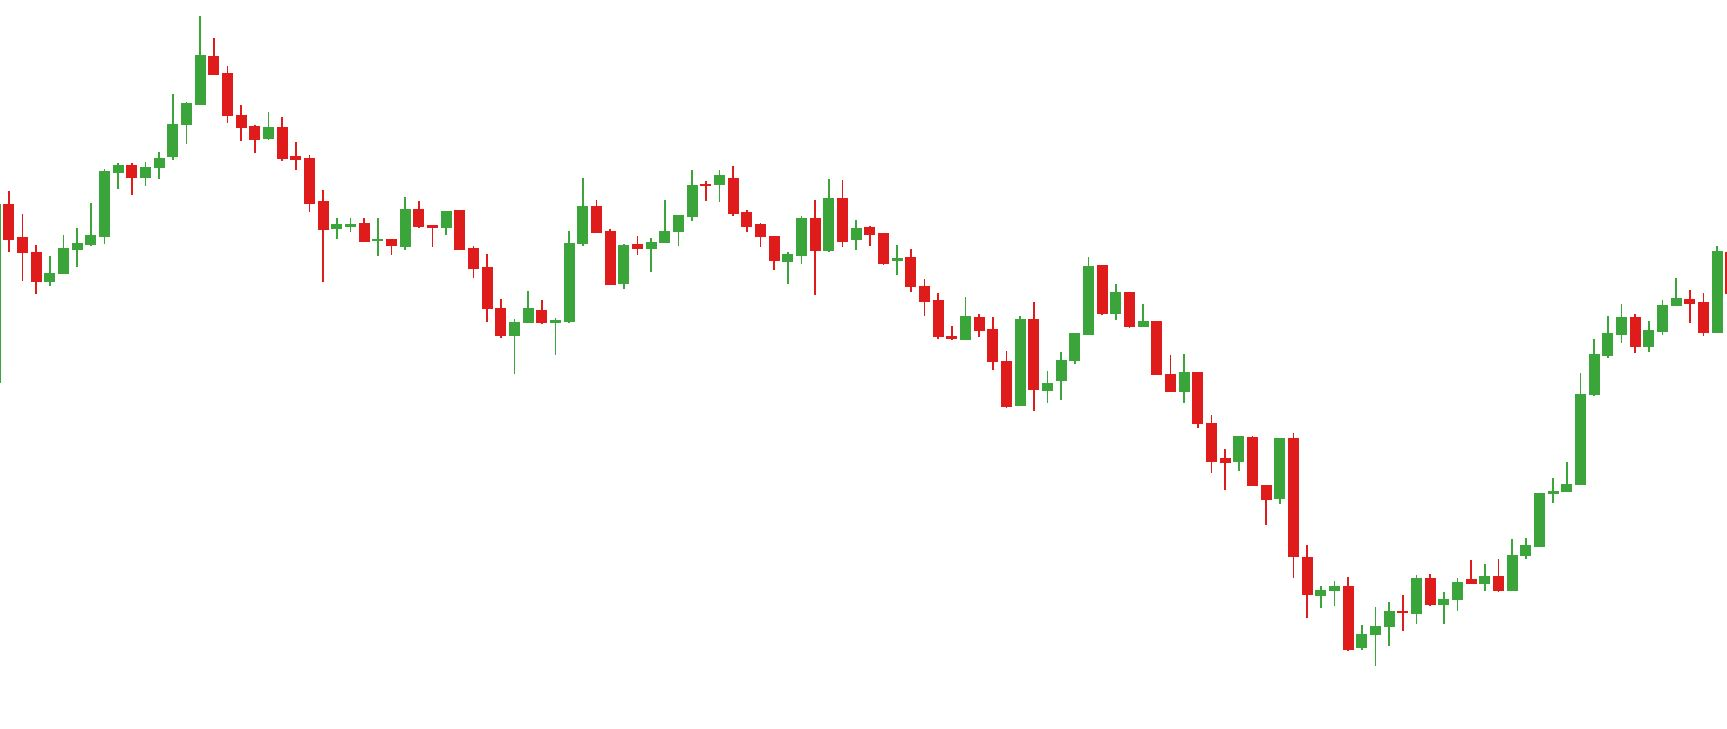sell: (958, 255, 1114, 355)
